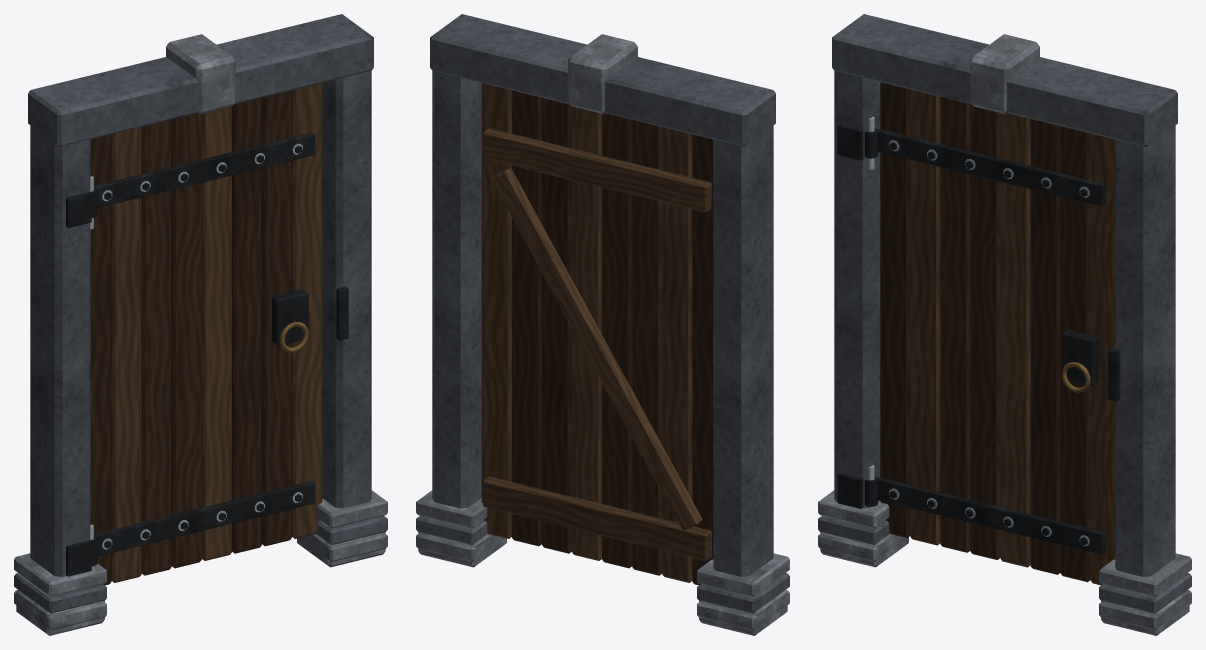
3 views of the same model, side by side, from view 1: azimuth 30°, elevation 25°; view 2: azimuth 150°, elevation 25°; view 3: azimuth 330°, elevation 25° (orthographic).
Parts seen in each view (by area): view 1: granite-ashlar, quarter-sawn-timber, exposed-end-grain, forged-iron-strapwork (×2), tooled-granite-edges, machined-bearing-steel; view 2: granite-ashlar, exposed-end-grain, quarter-sawn-timber, tooled-granite-edges; view 3: granite-ashlar, quarter-sawn-timber, exposed-end-grain, forged-iron-strapwork (×2), tooled-granite-edges, machined-bearing-steel.
Boxes of the visible parts, x1,y1,x2,y2 form: granite-ashlar: (14,14,387,613); quarter-sawn-timber: (90,90,291,585); exposed-end-grain: (111,83,322,582); forged-iron-strapwork (×2): (66,132,348,576); tooled-granite-edges: (14,34,387,635); machined-bearing-steel: (102,143,302,549); granite-ashlar: (416,14,789,613); exposed-end-grain: (481,83,711,582); quarter-sawn-timber: (512,90,713,585); tooled-granite-edges: (416,34,789,635); granite-ashlar: (818,14,1191,613); quarter-sawn-timber: (880,82,1090,582); exposed-end-grain: (910,89,1115,585); forged-iron-strapwork (×2): (837,124,1120,554); tooled-granite-edges: (818,34,1191,635); machined-bearing-steel: (889,140,1089,546).
Size of the model in its own units: 1.69 by 2.55 by 0.32.
Materials: 7 (7 with a texture image).
